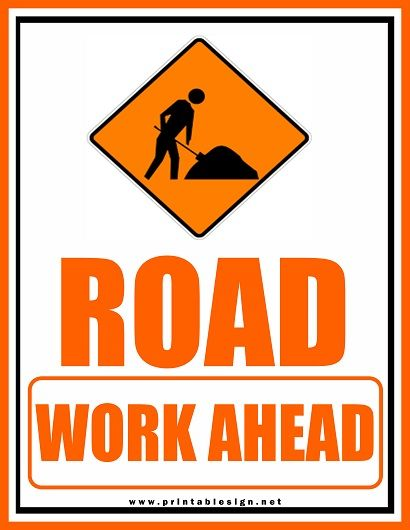Road_workahead: (76, 33, 322, 240)
